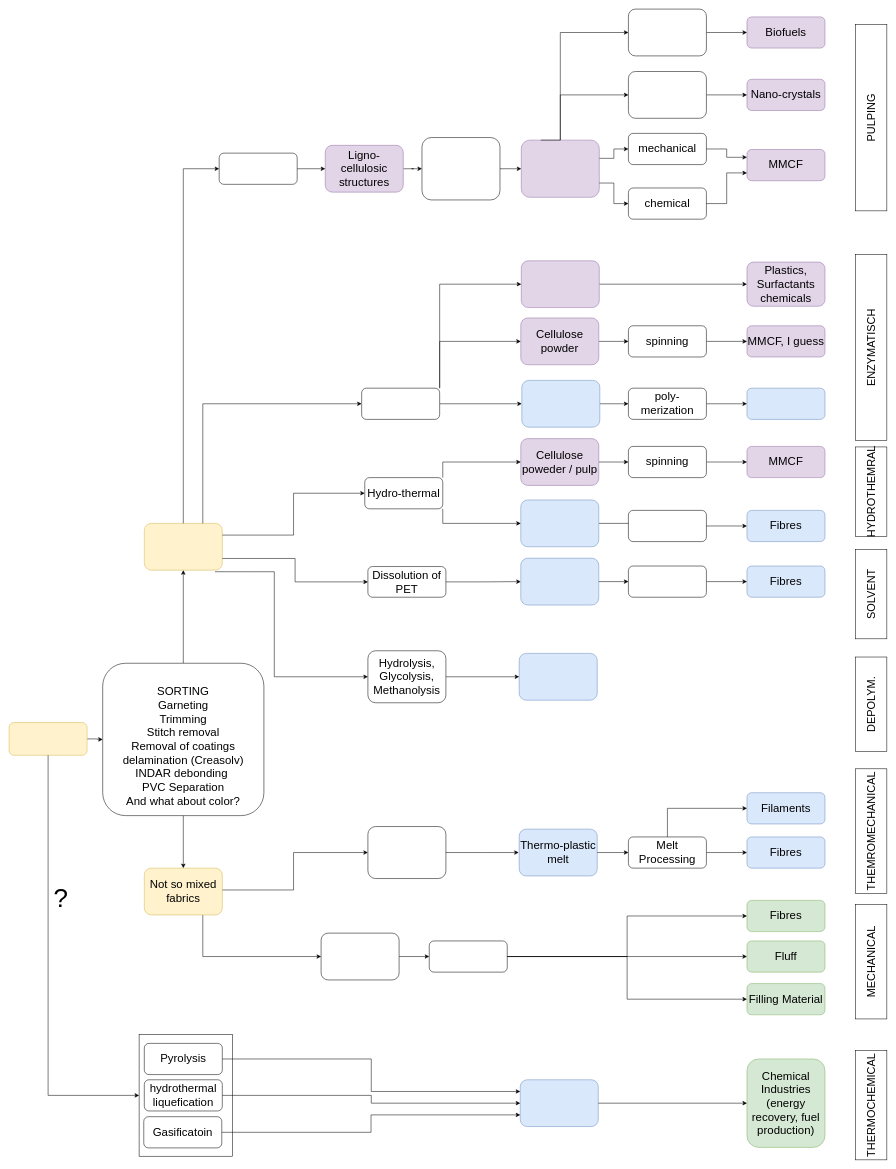
This 896x1169 diagram has some shape labels left out. The centre of each missing label's shape, as x and y in pixels:
(Chemical) Pre- Treatment: the point at 360,956
Cellulose Fibres, (Hemi, Lignin): the point at 560,168
Dissolution of cotton: the point at 258,168
enzyma tic hydrolysis: the point at 667,94
Enzymatic: the point at 400,403
gasification, biorefinery: the point at 667,32
Glucose Syrup: the point at 560,284
Mechanical action: the point at 468,956
meltspinning?: the point at 667,581
Mixed Fabrics: the point at 183,546
Monomers, Oligomers: the point at 559,1103
PET monmers: the point at 559,523
PET monomers: the point at 558,676
PET polmers: the point at 559,581
PET, PA, PLA: the point at 560,403
polym, spinn: the point at 667,526
Pulping (eg NaOH/Na2S + mechanical: the point at 460,168
Stuff: the point at 785,403
Textile Waste: the point at 48,738
Thermo-mechanical: the point at 406,852
